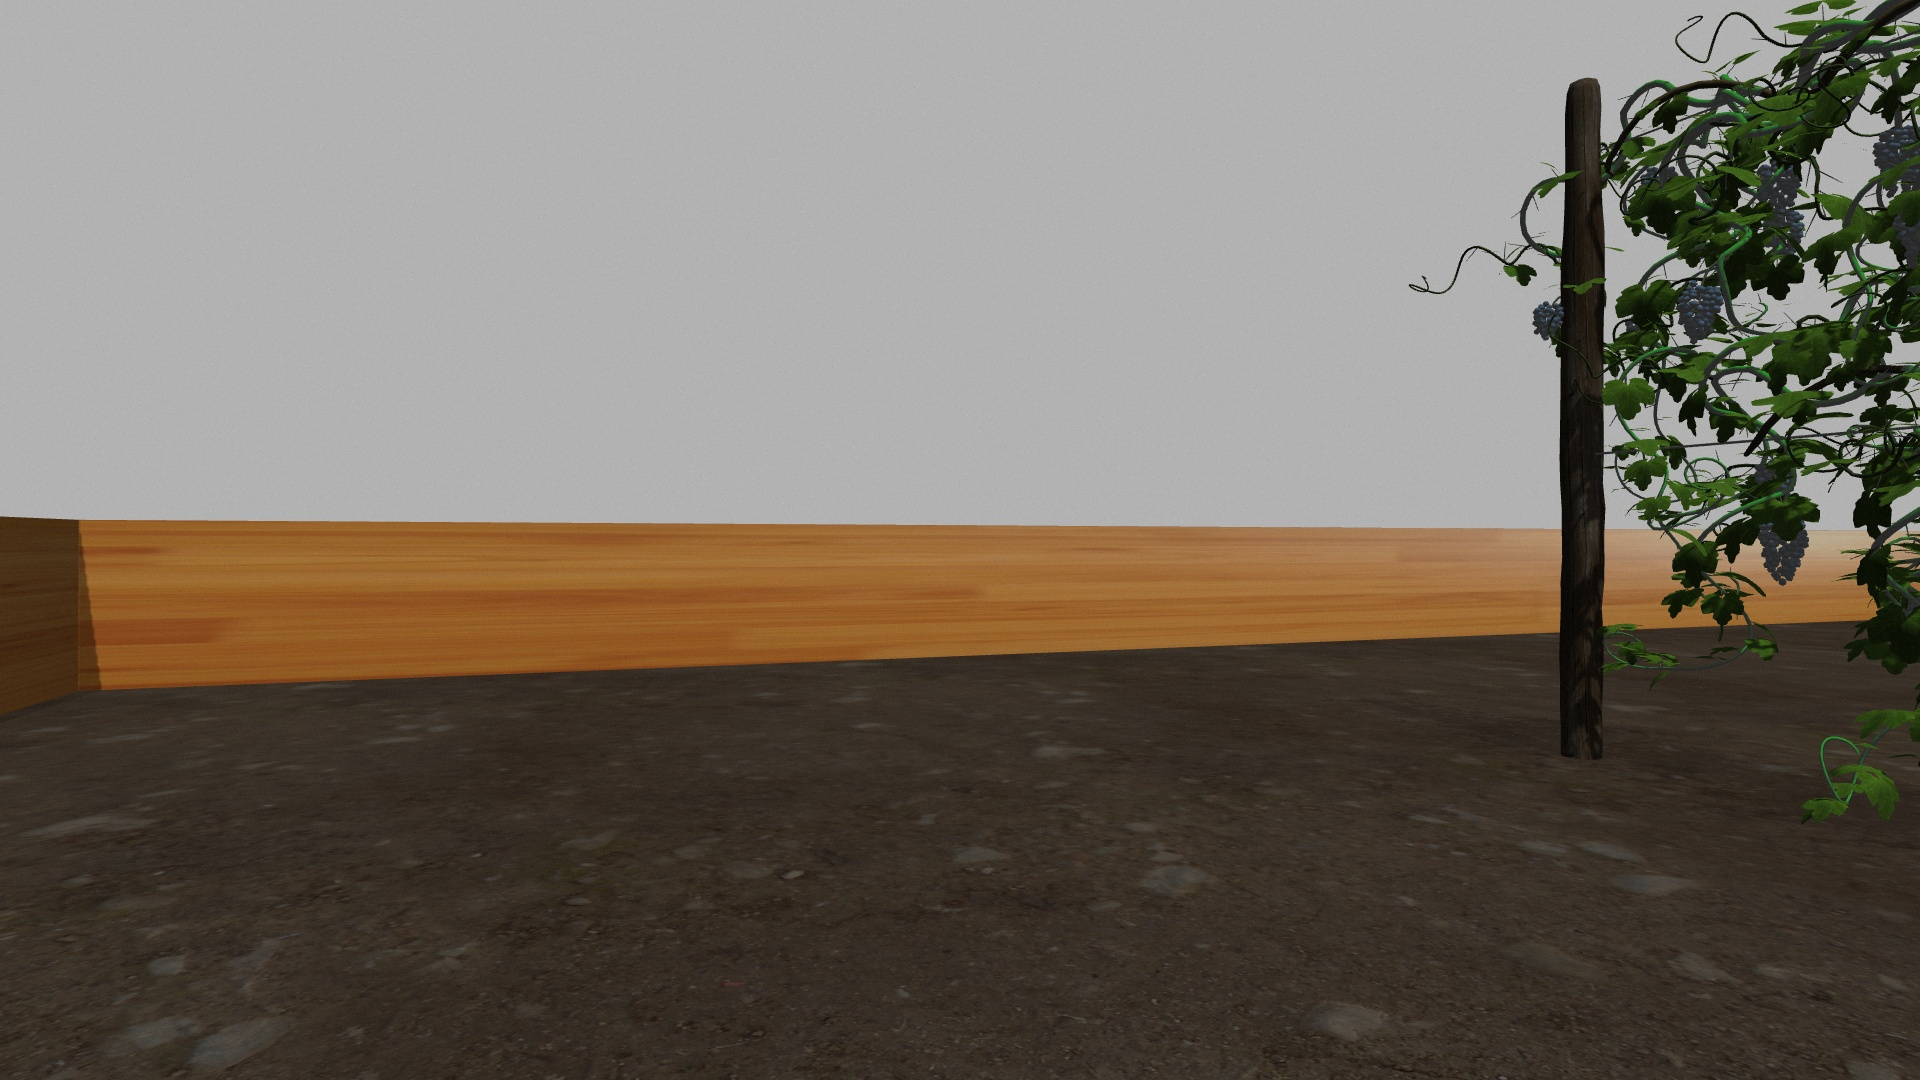grape: (1759, 516, 1808, 585), (1873, 127, 1916, 195), (1676, 281, 1724, 342), (1756, 158, 1801, 214), (1762, 211, 1807, 256), (1532, 301, 1564, 338)
